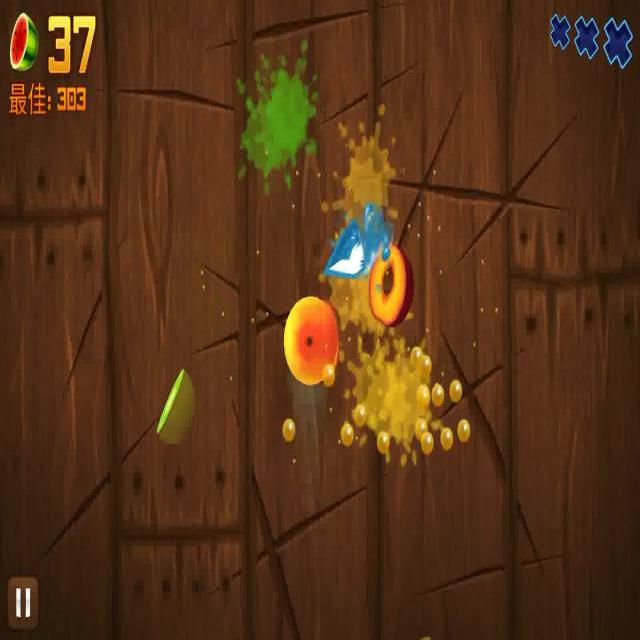fruit: (275, 289, 342, 387), (157, 359, 200, 458), (367, 240, 411, 327)
